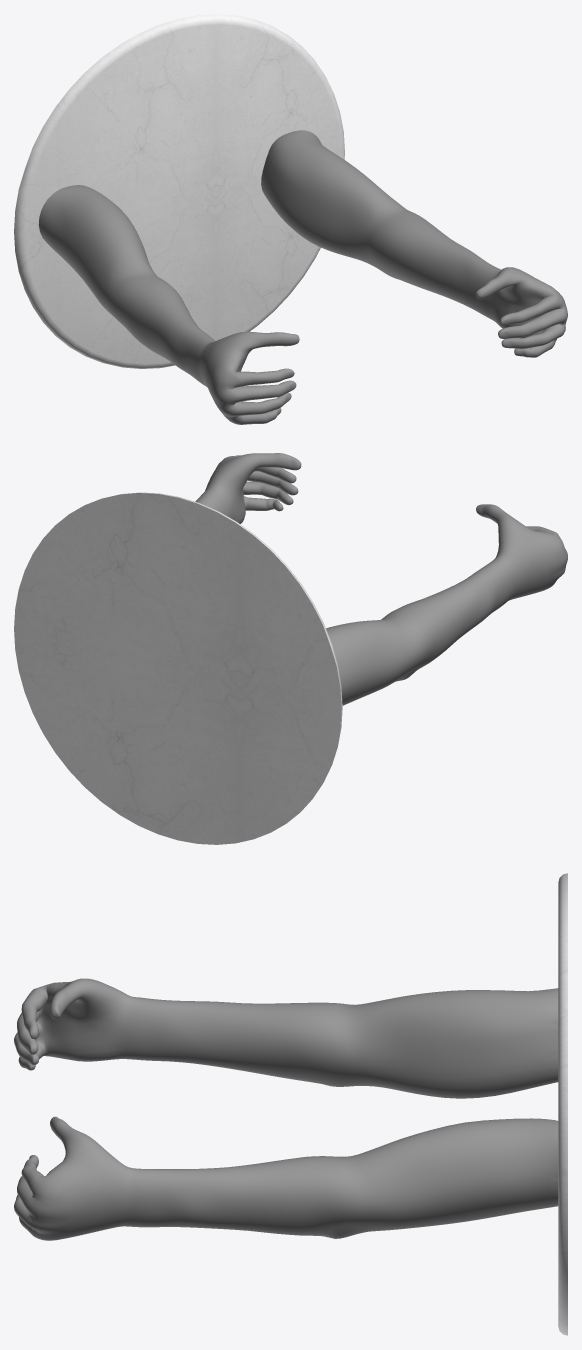
The model's file is Decor_Hands02.FBX.
The picture shows the model from 3 angles, top to bottom: view 1: azimuth 30°, elevation 25°; view 2: azimuth 150°, elevation 25°; view 3: azimuth 270°, elevation 25°; orthographic projection. The views are drawn at different scales.
Visible parts, largest first — view 1: Decor_Cylinder02, Decor_Hands02; view 2: Decor_Cylinder02, Decor_Hands02; view 3: Decor_Hands02, Decor_Cylinder02.
Part boxes in pixels (box(x1,y1,x2,y2)): Decor_Cylinder02: box(14, 14, 344, 368); Decor_Hands02: box(38, 130, 567, 424); Decor_Cylinder02: box(14, 492, 342, 844); Decor_Hands02: box(195, 453, 567, 705); Decor_Hands02: box(14, 978, 558, 1240); Decor_Cylinder02: box(558, 873, 567, 1335).
Bounding box in the file's own units: 34.84 × 32.96 × 39.42.
